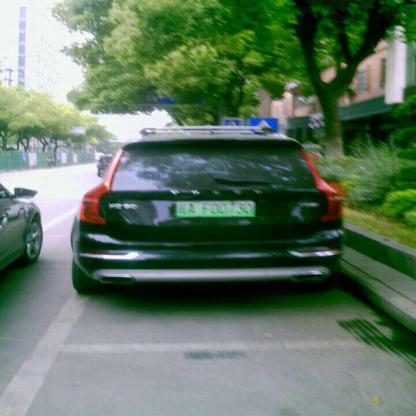lp: (174, 200, 258, 218)
